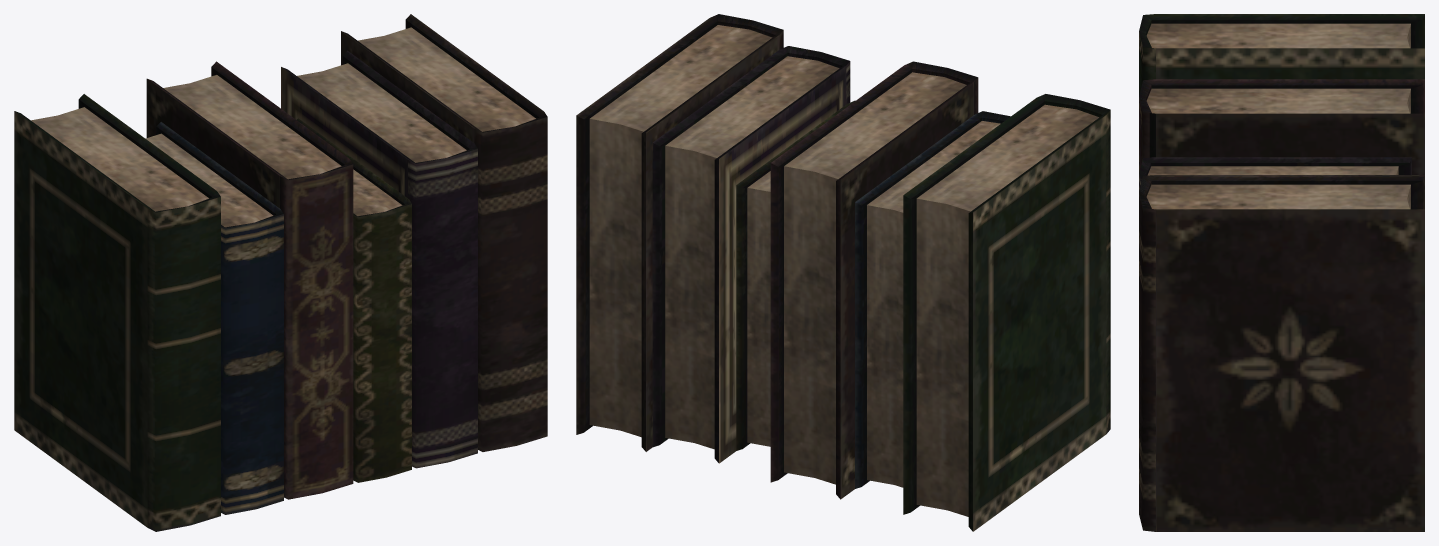
File: book_row01.dae
3 renders of one model, left to right at view 1: azimuth 30°, elevation 25°; view 2: azimuth 150°, elevation 25°; view 3: azimuth 270°, elevation 25°, orthographic.
Parts seen in each view (by area): view 1: polySurface1; view 2: polySurface1; view 3: polySurface1.
Part boxes in pixels (box(x1,y1,x2,y2)): polySurface1: box(14, 14, 547, 531); polySurface1: box(576, 14, 1110, 531); polySurface1: box(1139, 14, 1424, 531).
Size of the model in its own units: 0.4547 by 0.35 by 0.2811.
